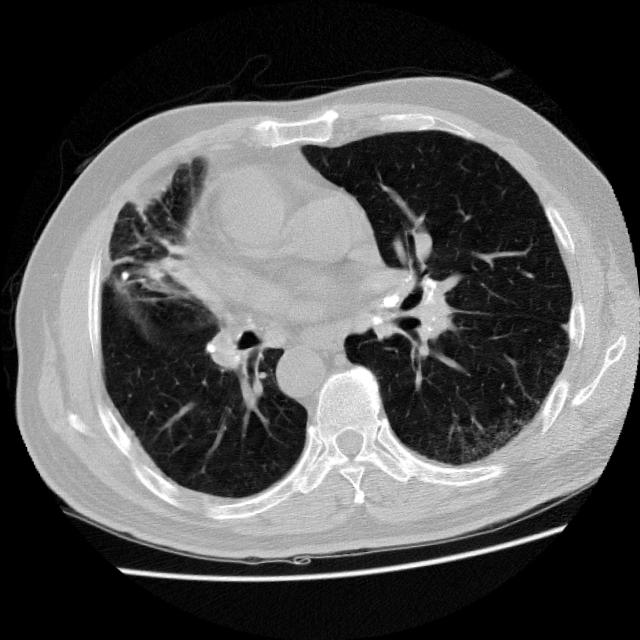nodule: (115, 262, 138, 286)
